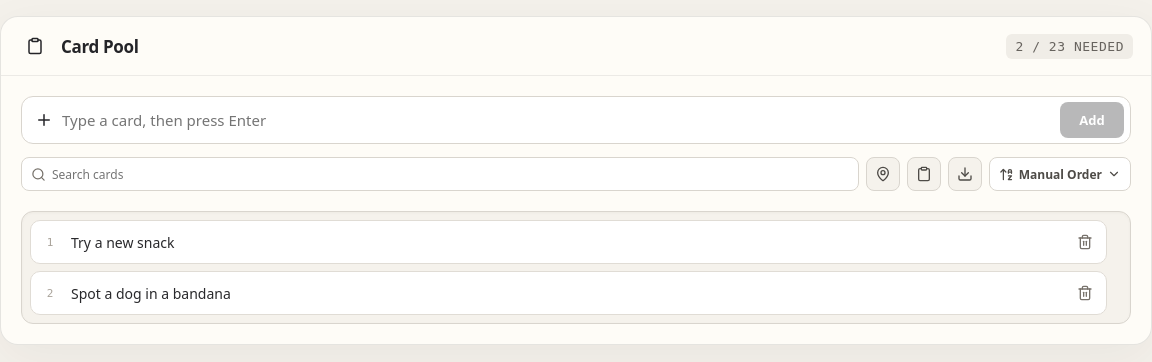
Test: Card Pool search › filters with fuzzy matching, highlights matches, and clears the query
The width and height of the screenshot is (1152, 362).
Type "snack" into the search field named "Search Card Pool" at (440, 174), box [22, 158, 858, 190]
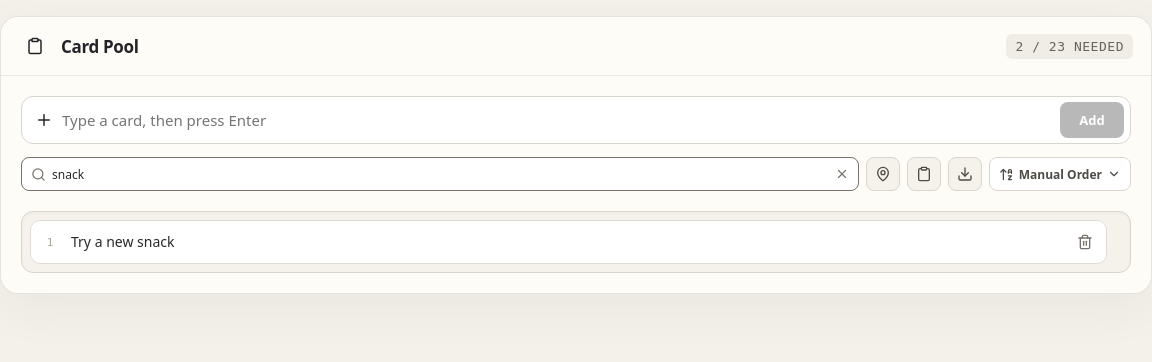
Now the text "snack" is shown, box [137, 232, 174, 251]
Click the button with aria-label "Edit Card 1: Try a new snack" at (104, 242), box [71, 226, 1062, 258]
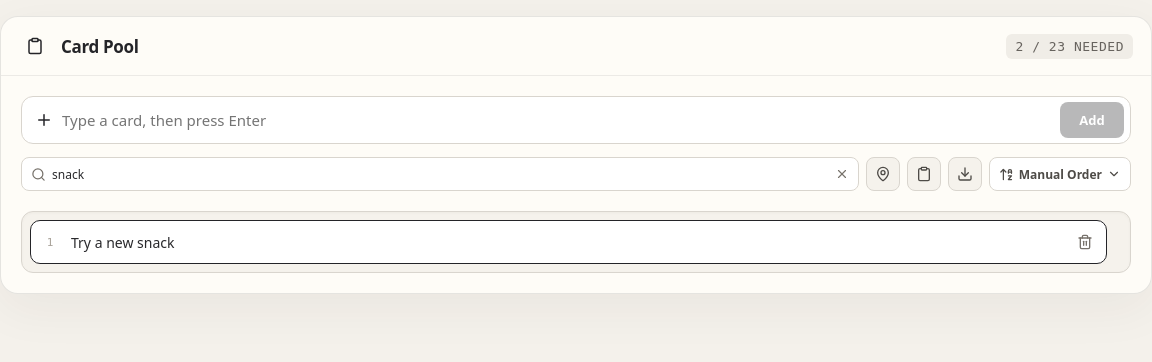
Click the button named "Clear Card Pool search" at (842, 174), box [828, 160, 856, 188]
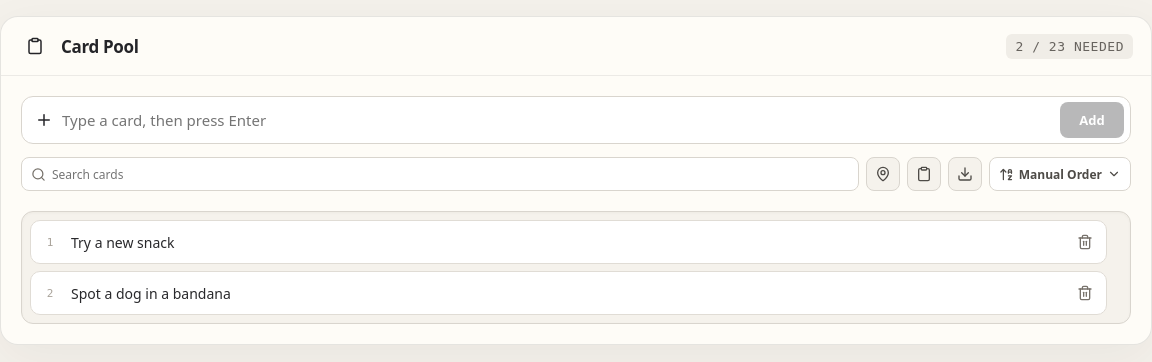
Now the search field named "Search Card Pool" is empty, box [22, 158, 858, 190]
Now the field named "Card 2" is shown, box [71, 277, 1062, 309]
